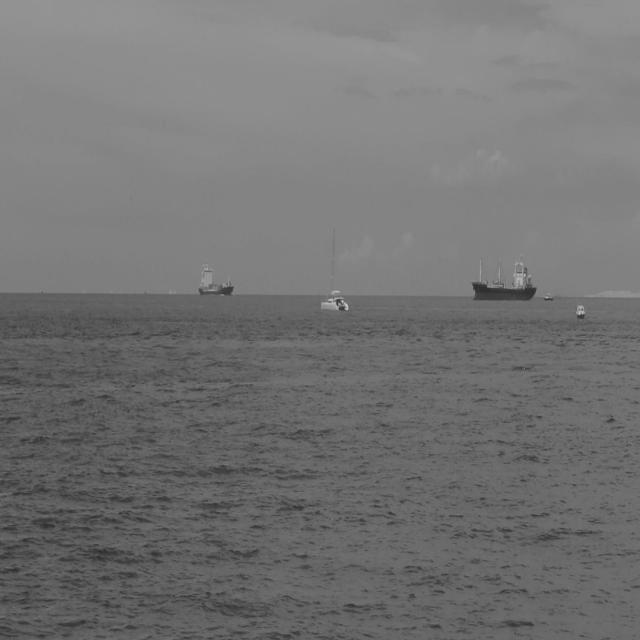boat: (319, 223, 350, 314)
ship: (469, 250, 538, 304), (197, 259, 234, 298), (574, 301, 586, 321), (544, 292, 554, 301)
